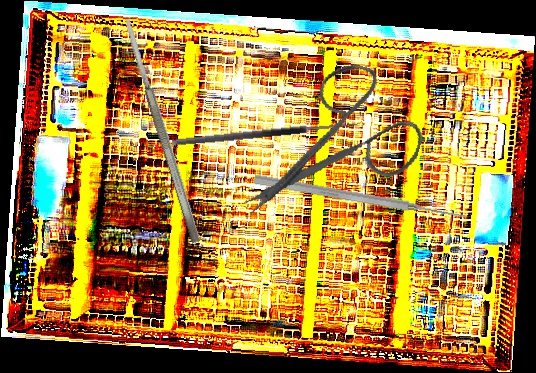Hook Surgical: (170, 110, 363, 148)
Iris Scissors: (241, 45, 437, 255)
Pusher: (253, 172, 467, 224)
Spatula Surgical: (121, 16, 203, 245)
